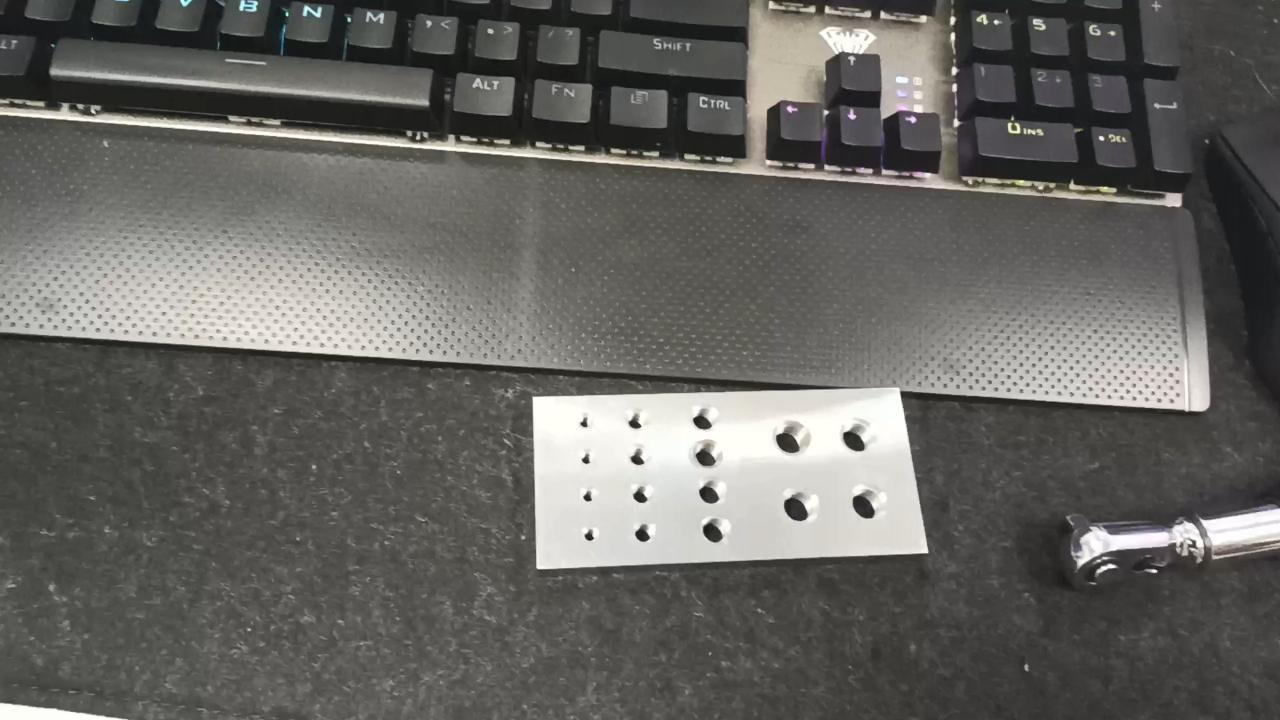Tool: (1048, 503, 1206, 603)
